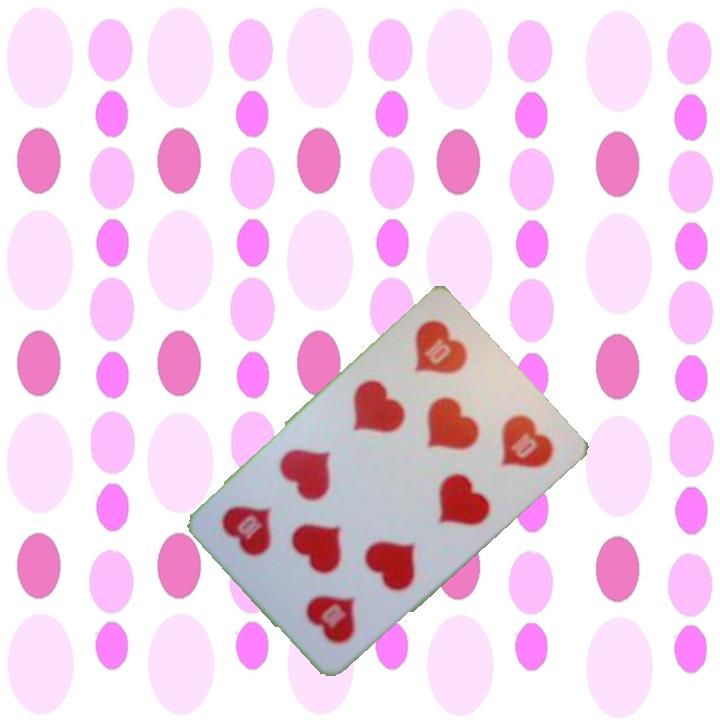h_10.png: (376, 305, 505, 435), (265, 534, 393, 663)
